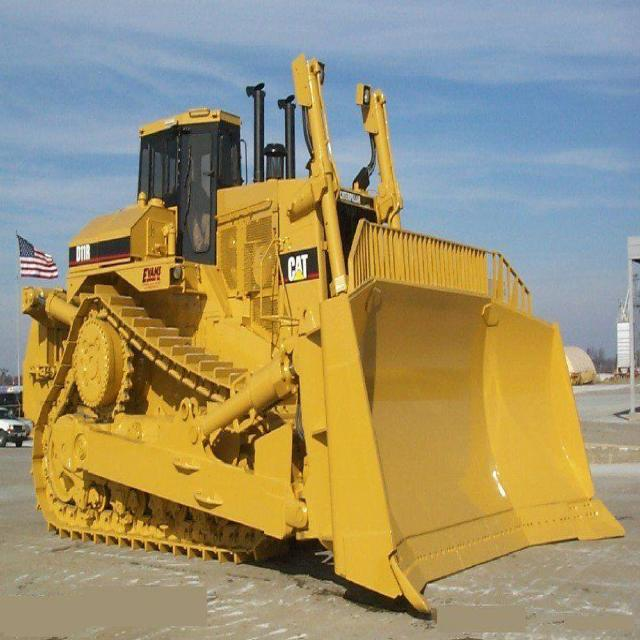buldozerpayloadergrader: (10, 43, 622, 622)
